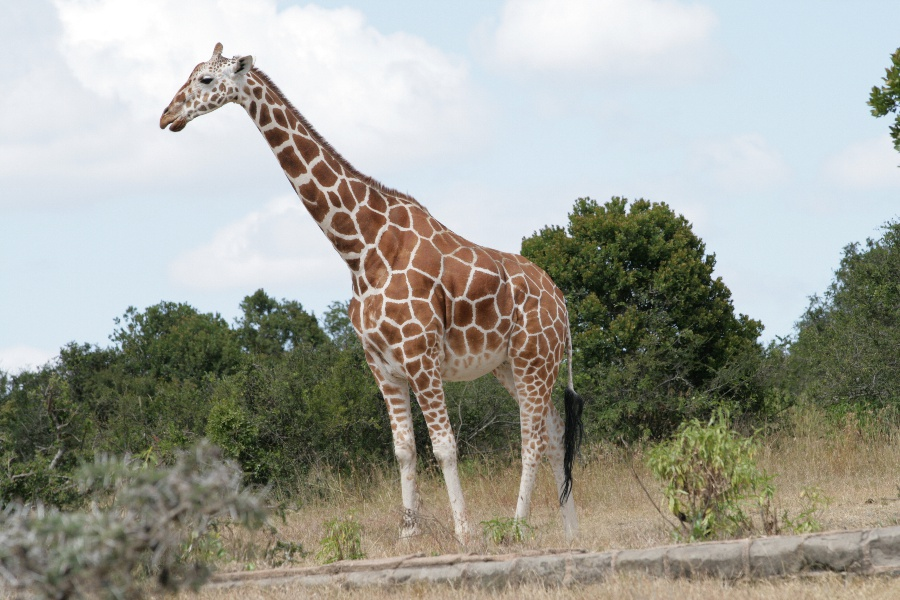giraffe: (146, 33, 592, 553)
